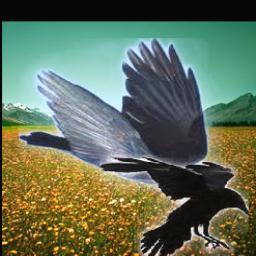Crow: (20, 39, 224, 193), (99, 155, 249, 256)
